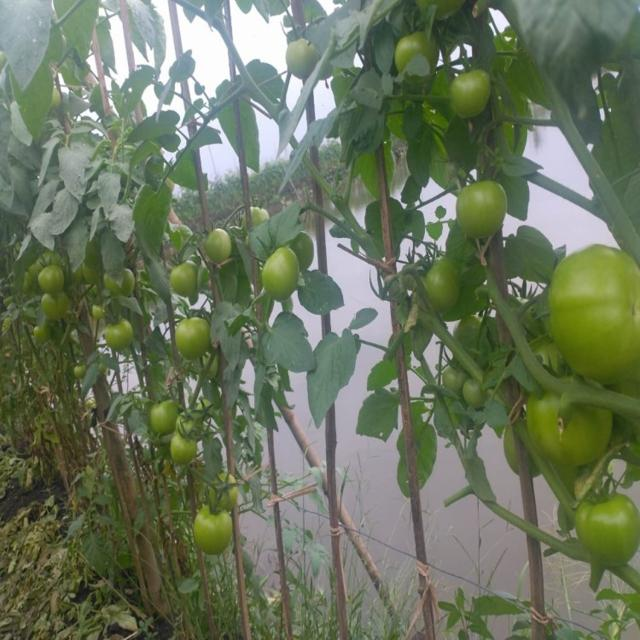tomato: (545, 246, 640, 373), (527, 363, 608, 463), (578, 488, 640, 565), (455, 185, 508, 242), (452, 67, 500, 125), (418, 256, 463, 315), (260, 248, 304, 305), (196, 506, 236, 561), (392, 29, 442, 71), (288, 40, 329, 89), (200, 467, 248, 507), (167, 316, 208, 362), (168, 256, 211, 298), (106, 319, 146, 362), (167, 438, 209, 477), (34, 290, 77, 321), (143, 394, 178, 431), (293, 231, 322, 275), (35, 262, 68, 293), (461, 379, 489, 413), (193, 397, 225, 426), (209, 231, 236, 263), (243, 202, 270, 233), (173, 411, 201, 437), (31, 322, 54, 345), (438, 363, 456, 390), (88, 300, 107, 322)
